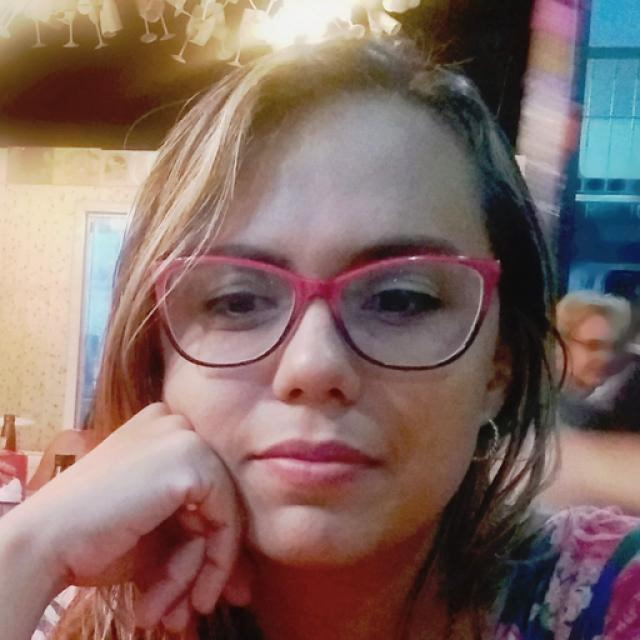neutral: (162, 86, 500, 572)
